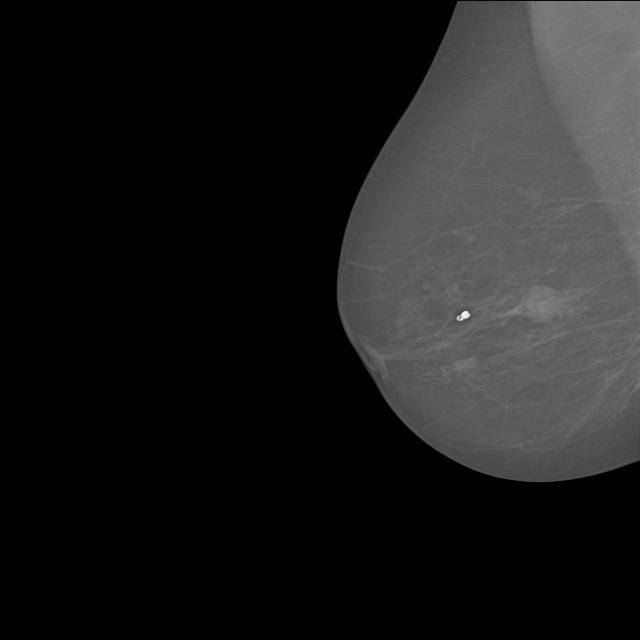Mass_1: (494, 266, 590, 347)
